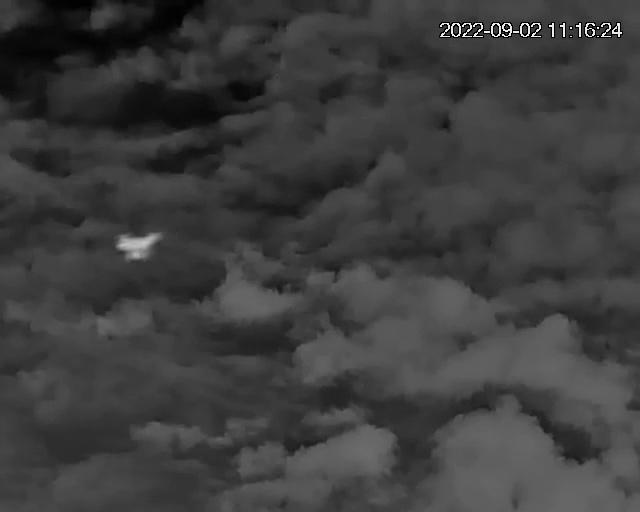DJI-Phantom: (118, 235, 168, 263)
